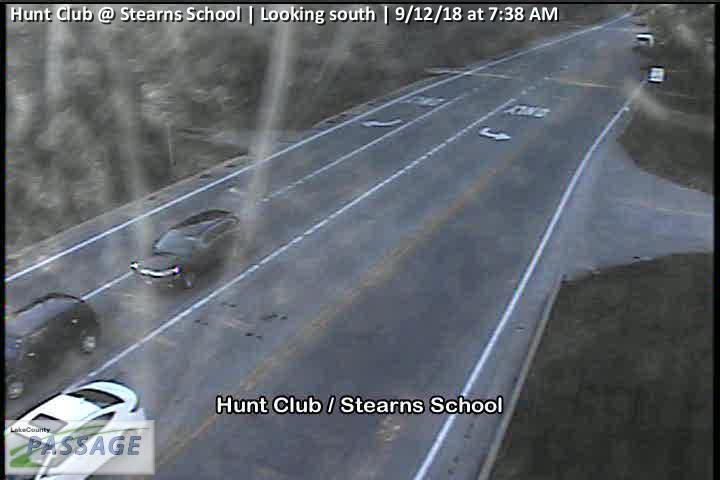Sedan: (5, 380, 142, 479), (1, 292, 104, 398), (131, 210, 243, 290)
